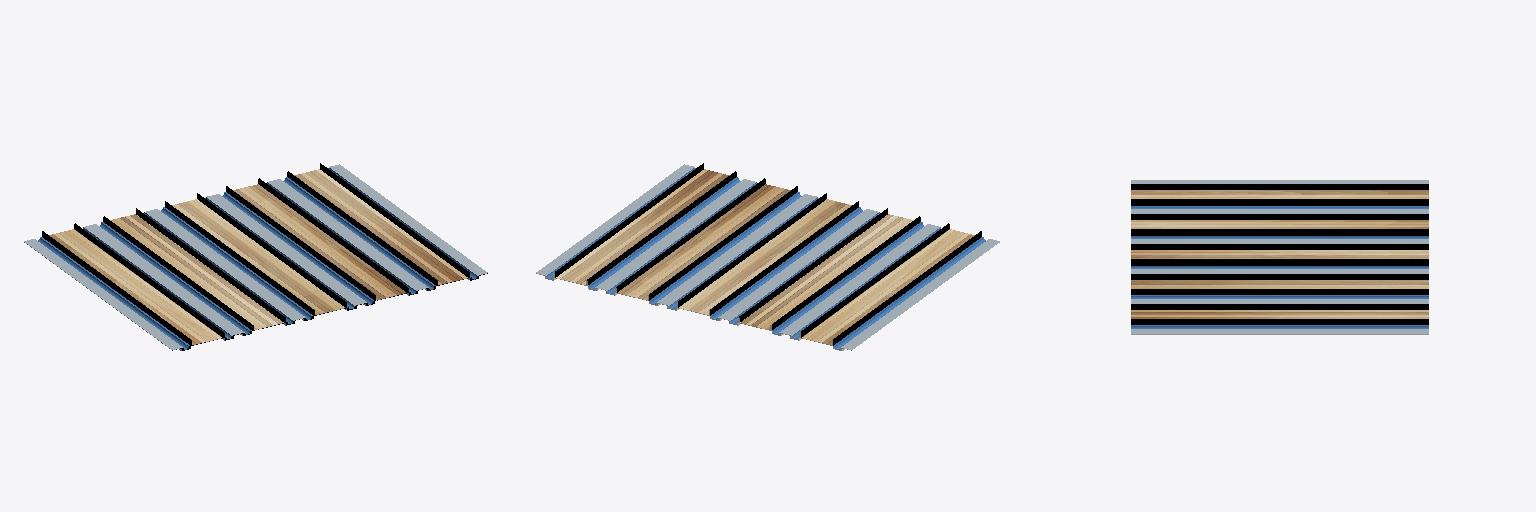
3 renders of one model, left to right at view 1: azimuth 30°, elevation 25°; view 2: azimuth 150°, elevation 25°; view 3: azimuth 270°, elevation 25°, orthographic.
Parts seen in each view (by area): view 1: mesh101, mesh49, mesh89, mesh67, mesh27, mesh2, mesh113, mesh6, mesh50, mesh28, mesh72, mesh90 (+10 smaller); view 2: mesh101, mesh49, mesh89, mesh67, mesh27, mesh2, mesh113, mesh6, mesh28, mesh50, mesh72, mesh90 (+10 smaller); view 3: mesh101, mesh11, mesh24, mesh27, mesh33, mesh39, mesh49, mesh55, mesh61, mesh67, mesh77, mesh89 (+15 smaller).
Boxes of the visible parts, box(x1,y1,x2,y2) form: mesh101: box(49, 169, 467, 344); mesh49: box(145, 209, 305, 320); mesh89: box(268, 179, 428, 290); mesh67: box(207, 194, 366, 305); mesh27: box(84, 224, 244, 335); mesh2: box(24, 239, 182, 349); mesh113: box(329, 164, 487, 275); mesh6: box(38, 238, 188, 349); mesh50: box(161, 208, 311, 319); mesh28: box(100, 222, 249, 334); mesh72: box(222, 193, 372, 304); mesh90: box(284, 178, 433, 289); mesh101: box(556, 169, 974, 344); mesh49: box(718, 209, 878, 320); mesh89: box(595, 179, 755, 290); mesh67: box(657, 194, 816, 305); mesh27: box(779, 224, 939, 335); mesh2: box(841, 239, 999, 349); mesh113: box(536, 164, 694, 275); mesh6: box(835, 238, 985, 349); mesh28: box(774, 222, 923, 334); mesh50: box(712, 208, 862, 319); mesh72: box(651, 193, 801, 304); mesh90: box(590, 178, 739, 289); mesh101: box(1131, 190, 1428, 318); mesh11: box(1131, 185, 1428, 189); mesh24: box(1131, 201, 1428, 205); mesh27: box(1131, 209, 1428, 213); mesh33: box(1131, 215, 1428, 219); mesh39: box(1131, 231, 1428, 235); mesh49: box(1131, 239, 1428, 243); mesh55: box(1131, 245, 1428, 249); mesh61: box(1131, 261, 1428, 265); mesh67: box(1131, 269, 1428, 273); mesh77: box(1131, 275, 1428, 279); mesh89: box(1131, 299, 1428, 303).
Bounding box in the file's own units: 10.3 × 0.2806 × 8.4.
Materials: 5 (1 with a texture image).